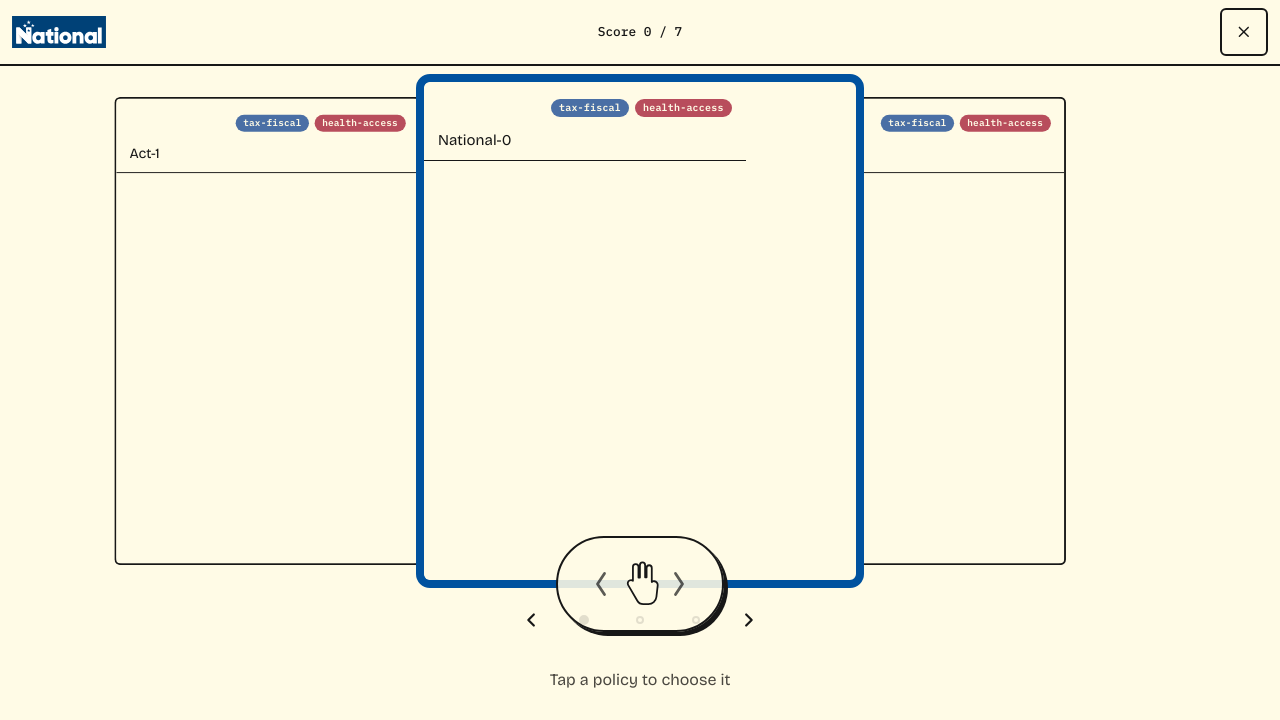
Test case: GameOverlay › on a phone, trivia Continue sits in a full-width footer
The image size is (1280, 720).
Click the button with aria-label "Policy 2": click(963, 331) x1=752 y1=89 x2=1173 y2=573
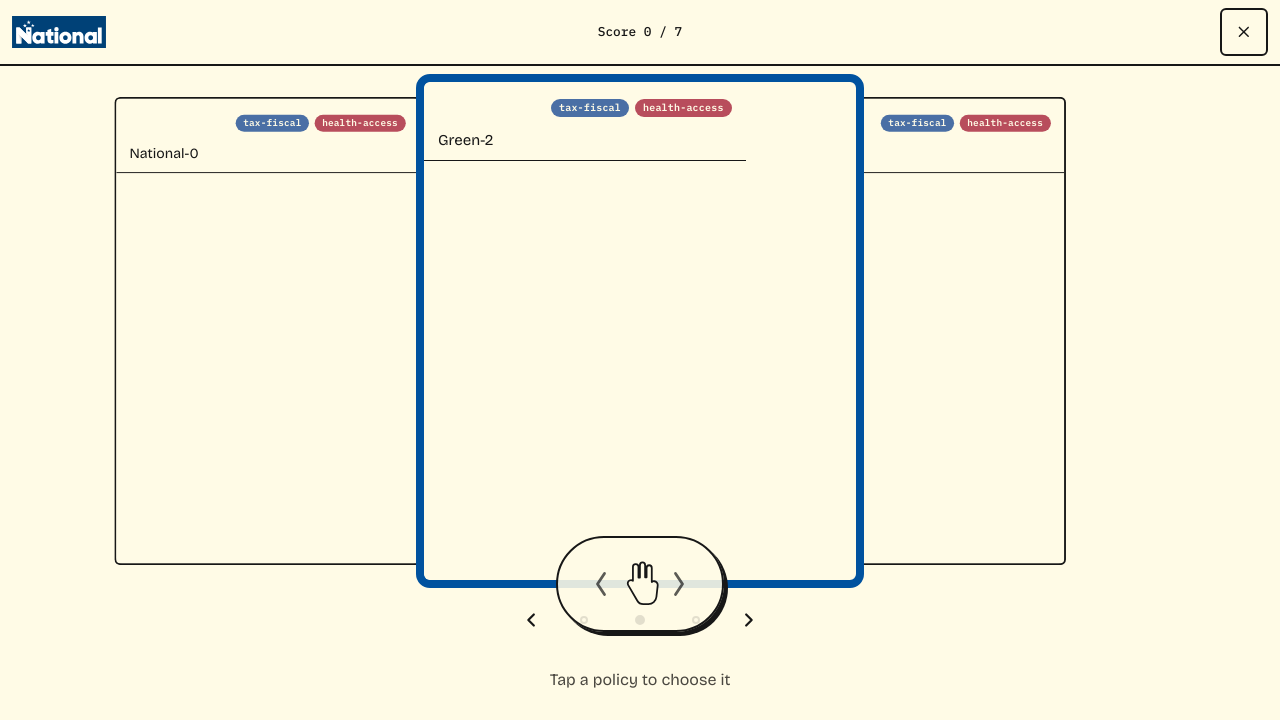
Click the button with aria-label "Policy 2": click(640, 331) x1=416 y1=74 x2=864 y2=588
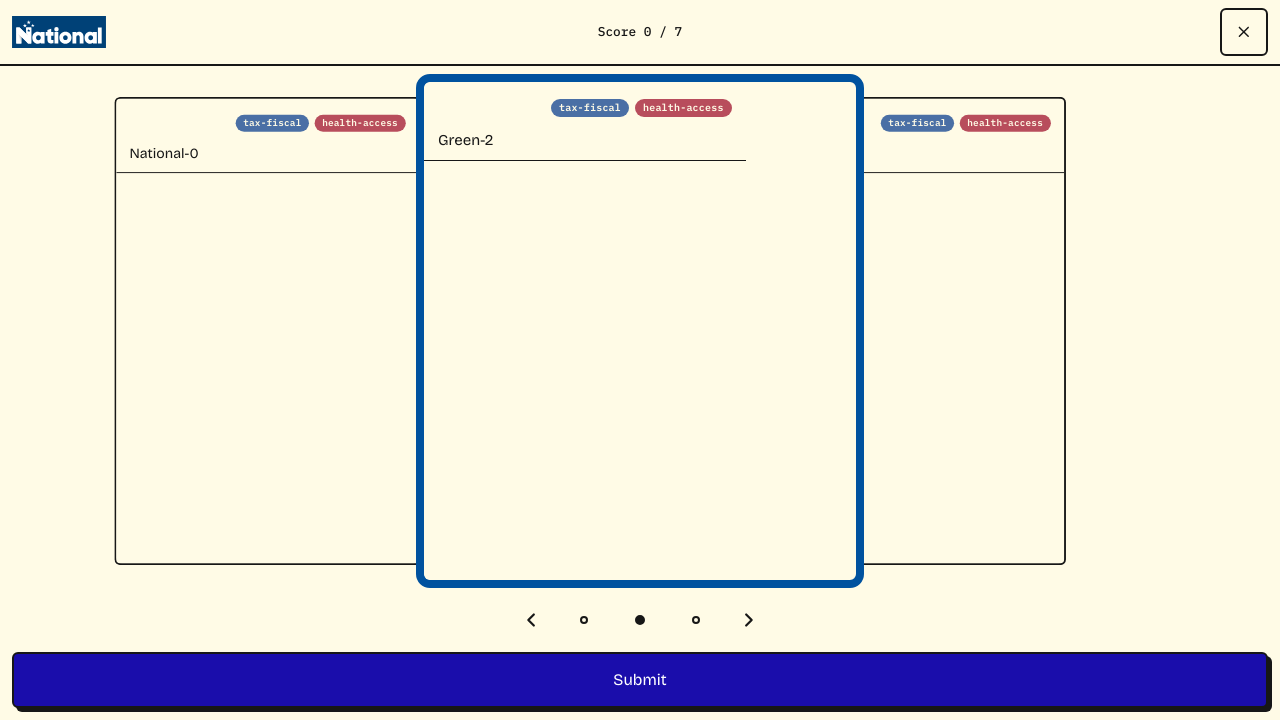
Click the button "Submit": click(640, 680) x1=12 y1=652 x2=1268 y2=708
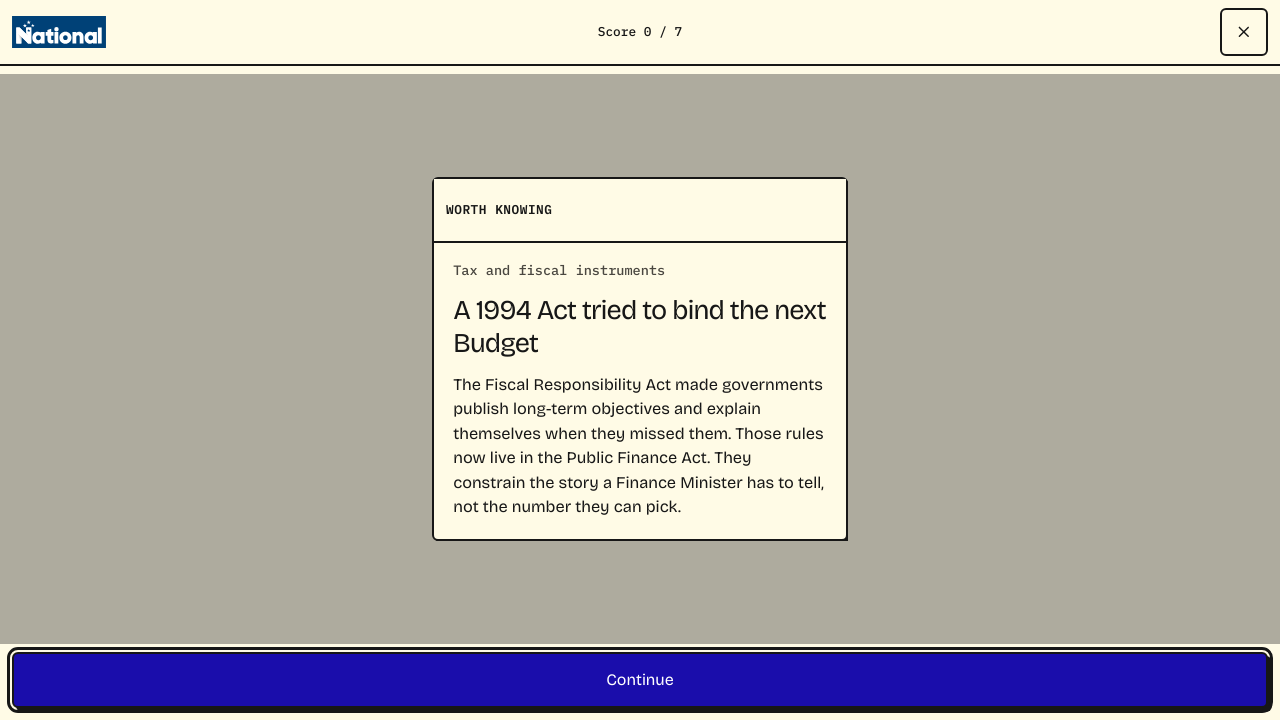
Expected: the element "Continue" is shown, x1=0 y1=644 x2=1279 y2=719
Expected: the text "Worth knowing" is shown, x1=446 y1=201 x2=552 y2=218
Expected: the element with class "game-trivia__card" is shown, x1=432 y1=177 x2=848 y2=541
